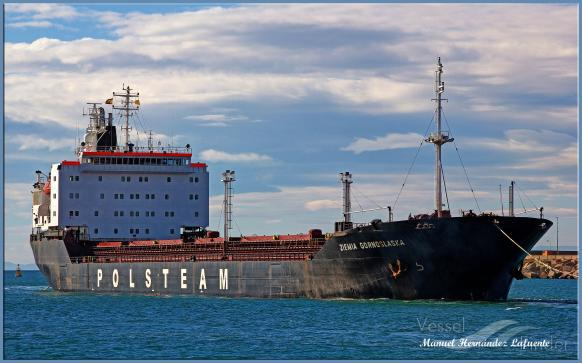OCR: (94, 264, 232, 296), (330, 240, 411, 258)
